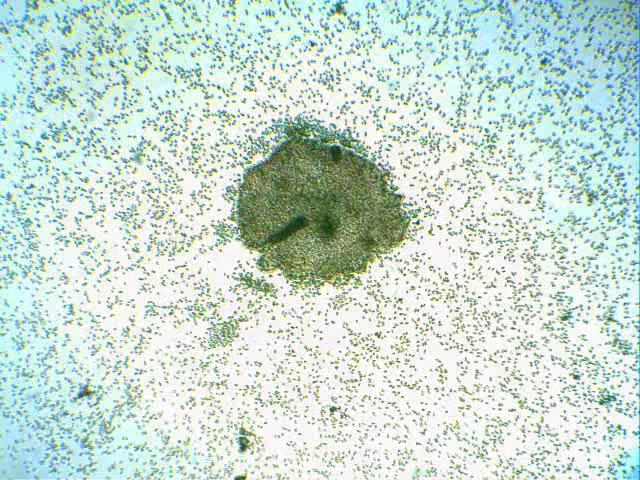Placozoan: (236, 136, 411, 280)
